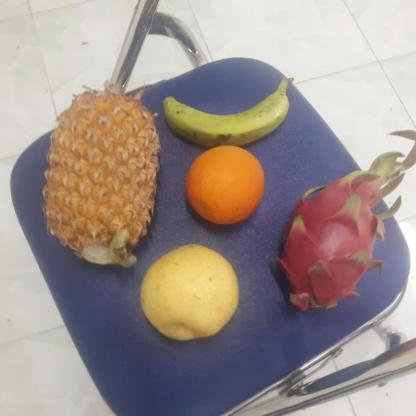banana: (159, 85, 292, 152)
orange: (182, 143, 268, 224)
pear: (136, 242, 240, 340)
pineapple: (41, 94, 161, 266)
pitaya: (270, 175, 386, 313)
